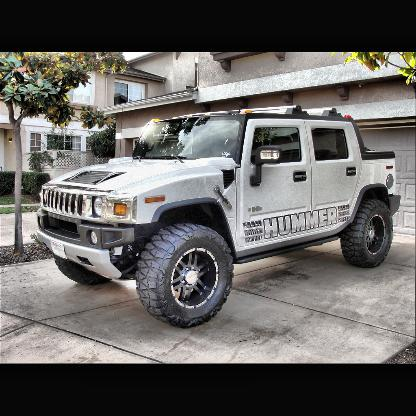HUMMER H2 SUT Crew Cab 2009: (39, 106, 401, 331)
